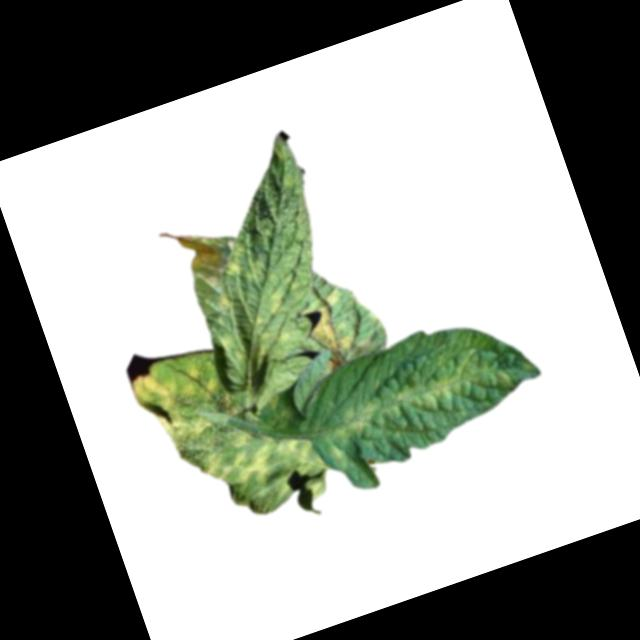Leaf_Mold: (319, 343, 501, 446), (197, 419, 321, 511), (131, 351, 237, 451), (295, 287, 364, 367), (239, 285, 301, 363), (167, 222, 229, 296), (218, 237, 265, 289), (215, 291, 241, 318)
